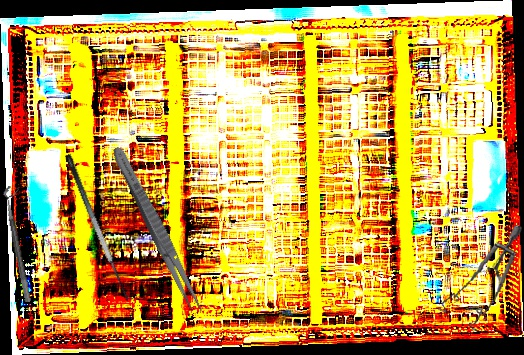Dressing Forceps: (107, 143, 208, 317)
Fixation Ring: (1, 184, 42, 303)
Spatula Surgical: (63, 148, 141, 306)
Speculum: (436, 217, 523, 336)
